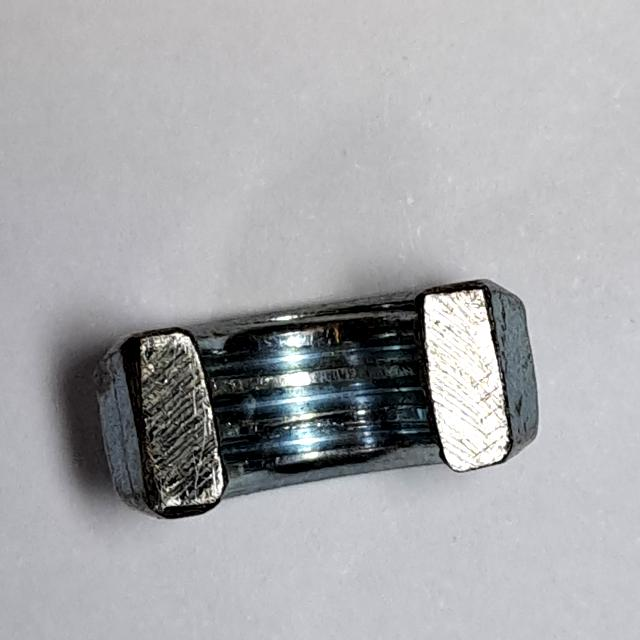Side-Fracture: (87, 267, 552, 537)
